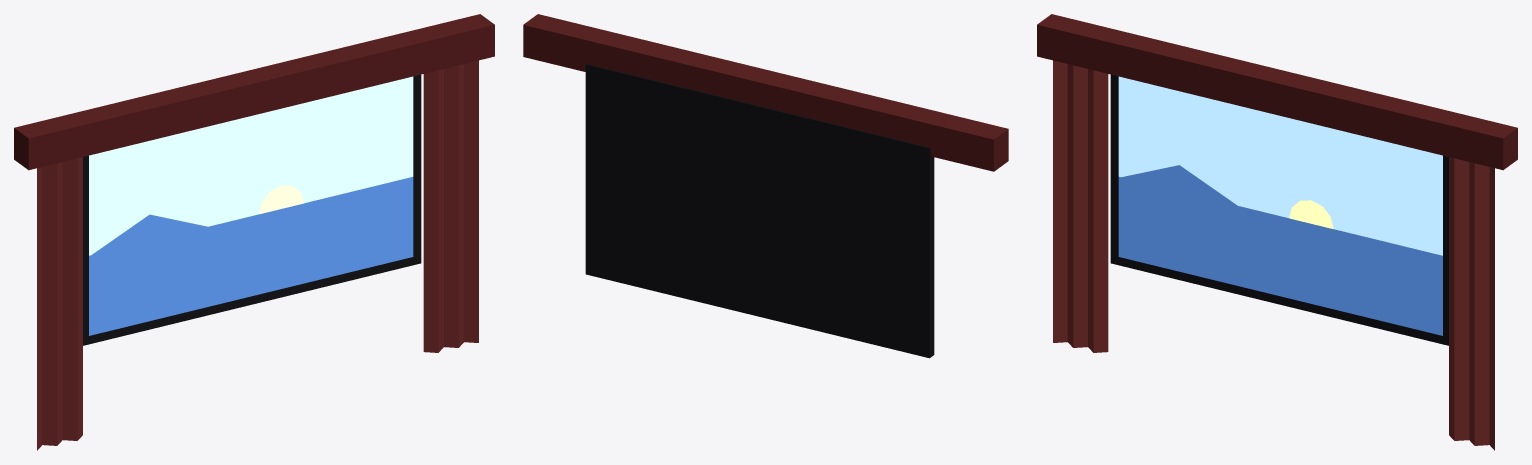
File: cinema_screen.glb
3 views of the same model, side by side, from view 1: azimuth 30°, elevation 25°; view 2: azimuth 150°, elevation 25°; view 3: azimuth 330°, elevation 25° (orthographic).
Visible parts, largest first — view 1: cinema_screen; view 2: cinema_screen; view 3: cinema_screen.
Part boxes in pixels (<box>): cinema_screen: <box>14,14,494,450</box>; cinema_screen: <box>523,14,1008,358</box>; cinema_screen: <box>1037,14,1517,450</box>.
Size of the model in its own units: 4.6 by 3 by 0.265.
